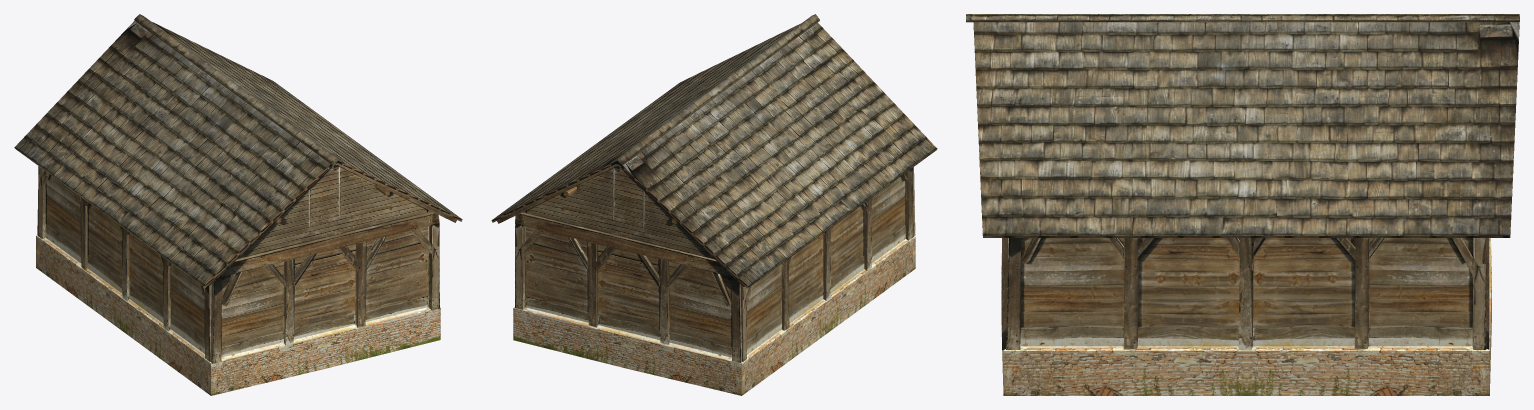
Rendered from RuralStall.obj.
The picture shows the model from 3 angles, left to right: view 1: azimuth 30°, elevation 25°; view 2: azimuth 150°, elevation 25°; view 3: azimuth 270°, elevation 25°; orthographic projection. The views are drawn at different scales.
Parts seen in each view (by area): view 1: RuralStallBase, RuralStallVerticalWoods1, RuralStallHorizonWood1, RuralStallVerticalWoods4, RuralStallRoofCloser, RuralStallExcWoods1; view 2: RuralStallBase, RuralStallVerticalWoods3, RuralStallHorizonWood3, RuralStallVerticalWoods4, RuralStallRoofCloser, RuralStallExcWoods3; view 3: RuralStallBase, RuralStallVerticalWoods2, RuralStallRoofCloser, RuralStallExcWoods2, RuralStallVerticalWoods1.
Part boxes in pixels (x1,y1,x2,y2): RuralStallBase: (14,20,462,395); RuralStallVerticalWoods1: (210,223,439,363); RuralStallHorizonWood1: (219,211,439,277); RuralStallVerticalWoods4: (38,166,211,361); RuralStallRoofCloser: (134,14,342,165); RuralStallExcWoods1: (222,229,431,306); RuralStallBase: (491,22,937,395); RuralStallVerticalWoods3: (515,223,742,362); RuralStallHorizonWood3: (515,212,732,276); RuralStallVerticalWoods4: (740,168,913,361); RuralStallRoofCloser: (613,14,819,164); RuralStallExcWoods3: (523,172,908,305); RuralStallBase: (973,16,1519,395); RuralStallVerticalWoods2: (1006,238,1486,349); RuralStallRoofCloser: (966,14,1519,22); RuralStallExcWoods2: (1021,238,1472,275); RuralStallVerticalWoods1: (1002,238,1007,350).
Size of the model in its own units: 564 by 455 by 752.
Materials: 2 (2 with a texture image).
